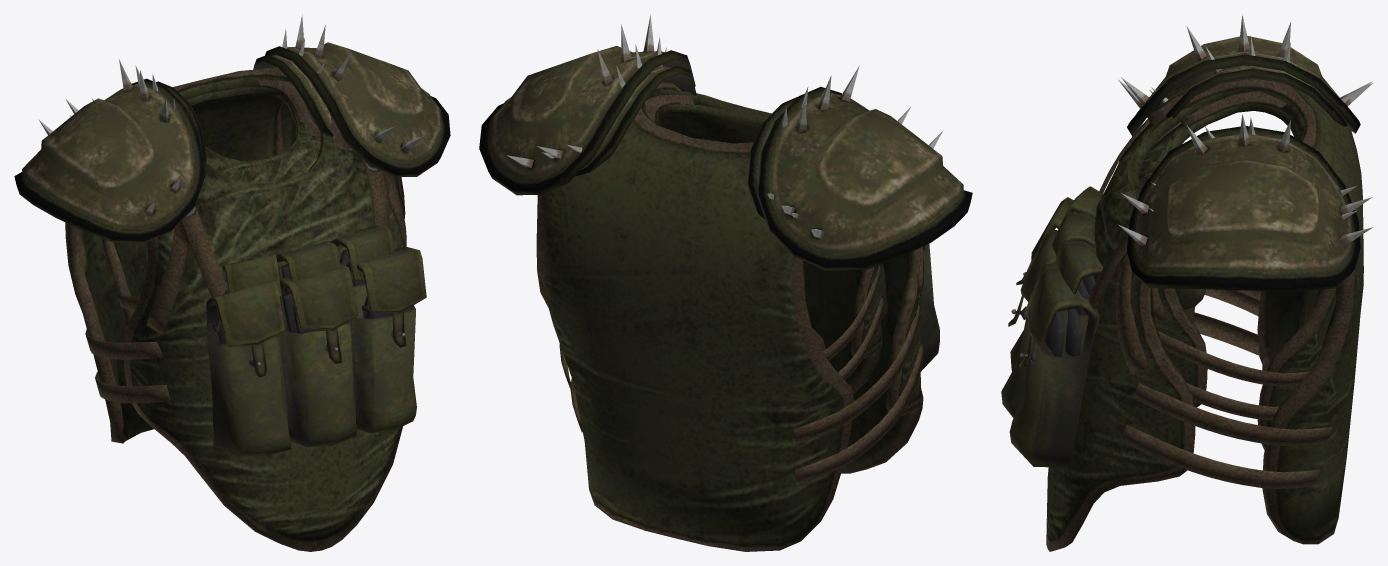
File: Armor82.fbx
The picture shows the model from 3 angles, left to right: view 1: azimuth 30°, elevation 25°; view 2: azimuth 150°, elevation 25°; view 3: azimuth 270°, elevation 25°; orthographic projection. The views are drawn at different scales.
Visible parts, largest first — view 1: Bronik_J81AddON, Bronik_J81, Bronik_J81_Female, Bronik_J81AddONfem; view 2: Bronik_J81, Bronik_J81AddON, Bronik_J81_Female, Bronik_J81AddONfem; view 3: Bronik_J81, Bronik_J81AddON, Bronik_J81_Female, Bronik_J81AddONfem.
Boxes of the visible parts, left/top/right/bottom form: Bronik_J81AddON: left=14, top=15, right=450, bottom=456; Bronik_J81: left=65, top=67, right=406, bottom=551; Bronik_J81_Female: left=101, top=79, right=320, bottom=331; Bronik_J81AddONfem: left=69, top=29, right=393, bottom=378; Bronik_J81: left=536, top=82, right=924, bottom=551; Bronik_J81AddON: left=479, top=15, right=972, bottom=371; Bronik_J81_Female: left=645, top=95, right=883, bottom=394; Bronik_J81AddONfem: left=542, top=36, right=887, bottom=325; Bronik_J81: left=1046, top=78, right=1363, bottom=551; Bronik_J81AddON: left=1001, top=14, right=1372, bottom=467; Bronik_J81_Female: left=1138, top=91, right=1335, bottom=450; Bronik_J81AddONfem: left=1052, top=36, right=1357, bottom=352.
Size of the model in its own units: 1.64 by 1.7 by 1.19.
Materials: 2 (2 with a texture image).
